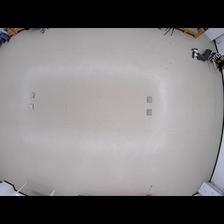fall: (191, 43, 224, 73)
